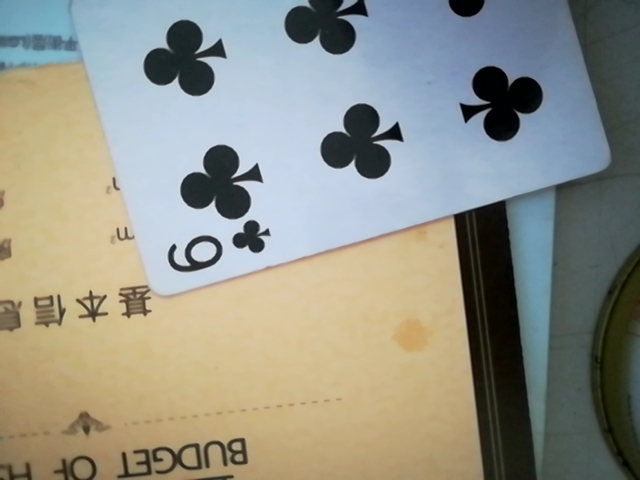mh 6: (69, 0, 611, 292)
